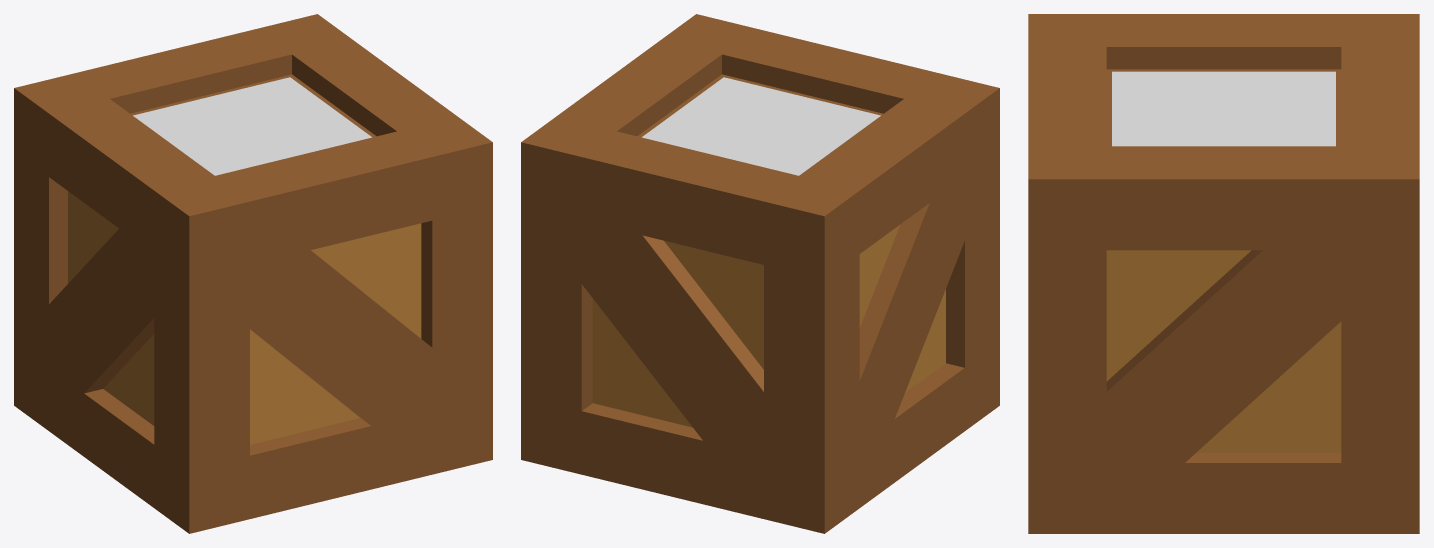
The model's file is Crate.fbx.
The picture shows the model from 3 angles, left to right: view 1: azimuth 30°, elevation 25°; view 2: azimuth 150°, elevation 25°; view 3: azimuth 270°, elevation 25°; orthographic projection. The views are drawn at different scales.
Visible parts, largest first — view 1: Crate; view 2: Crate; view 3: Crate.
Part boxes in pixels (x1=…): Crate: x1=14, y1=14, x2=492, y2=533; Crate: x1=521, y1=14, x2=999, y2=533; Crate: x1=1028, y1=14, x2=1419, y2=533.
Size of the model in its own units: 48 by 48 by 48.
